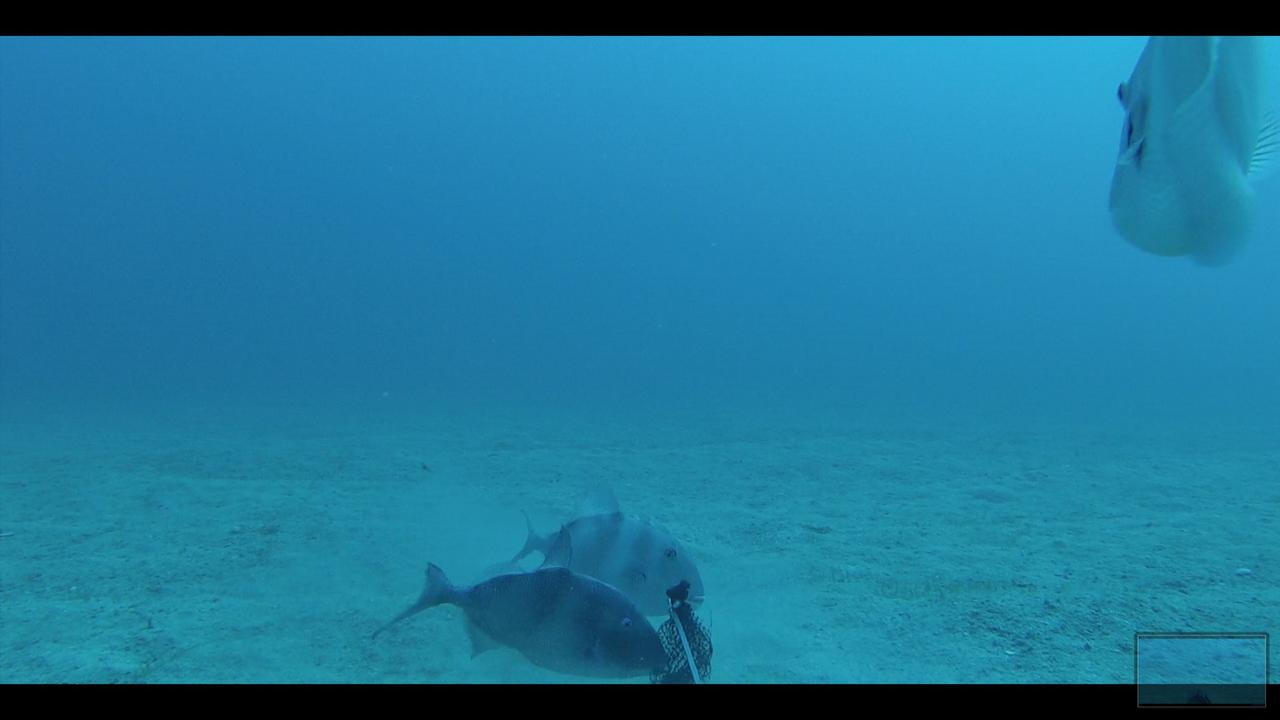balistes: (1103, 36, 1277, 271), (364, 544, 669, 678), (512, 483, 704, 610)
